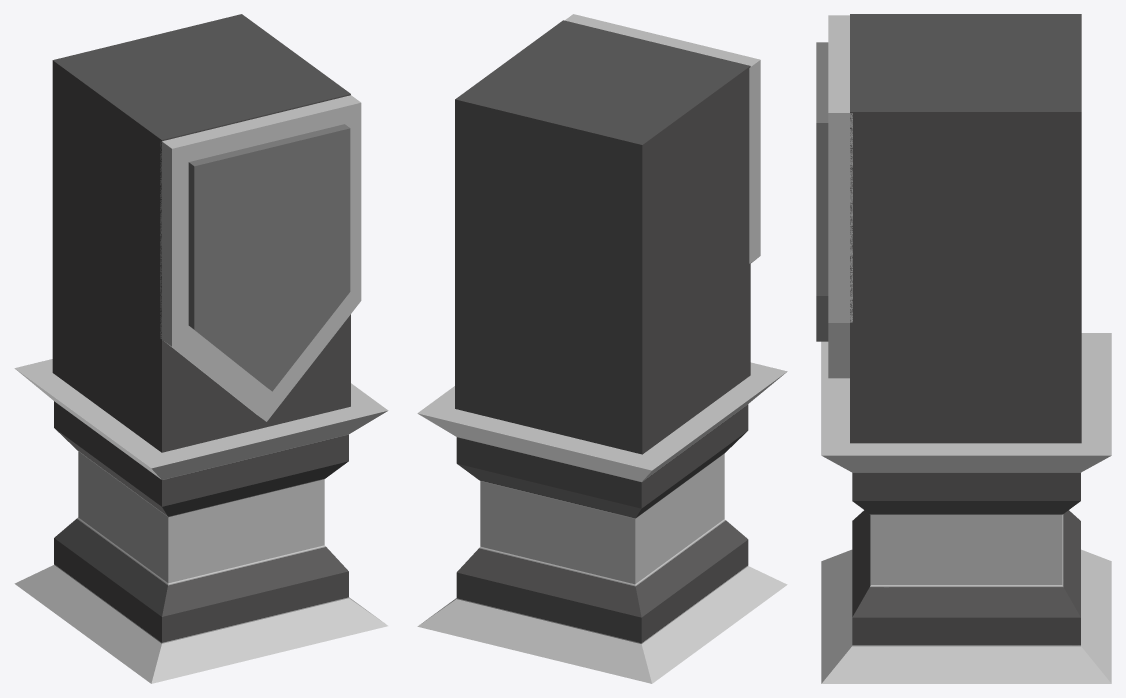
File: tameng 1.fbx
3 renders of one model, left to right at view 1: azimuth 30°, elevation 25°; view 2: azimuth 150°, elevation 25°; view 3: azimuth 270°, elevation 25°, orthographic. The views are drawn at different scales.
Visible parts, largest first — view 1: Cube.003, Cube.002, Cube.001, Cube; view 2: Cube.002, Cube.003, Cube; view 3: Cube.002, Cube.003, Cube, Cube.001.
Boxes of the visible parts, bbox=[...] form: Cube.003: bbox=[14, 359, 388, 683]; Cube.002: bbox=[52, 14, 350, 452]; Cube.001: bbox=[188, 124, 350, 391]; Cube: bbox=[160, 95, 361, 421]; Cube.002: bbox=[455, 20, 750, 454]; Cube.003: bbox=[417, 362, 787, 683]; Cube: bbox=[565, 14, 760, 263]; Cube.002: bbox=[850, 14, 1081, 443]; Cube.003: bbox=[821, 333, 1111, 683]; Cube: bbox=[828, 15, 852, 378]; Cube.001: bbox=[816, 42, 828, 341].
Bounding box in the file's own units: 251 × 533 × 255.
